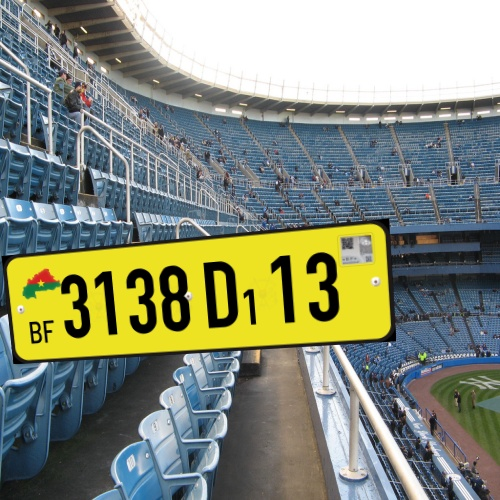plate: (4, 215, 413, 368)
